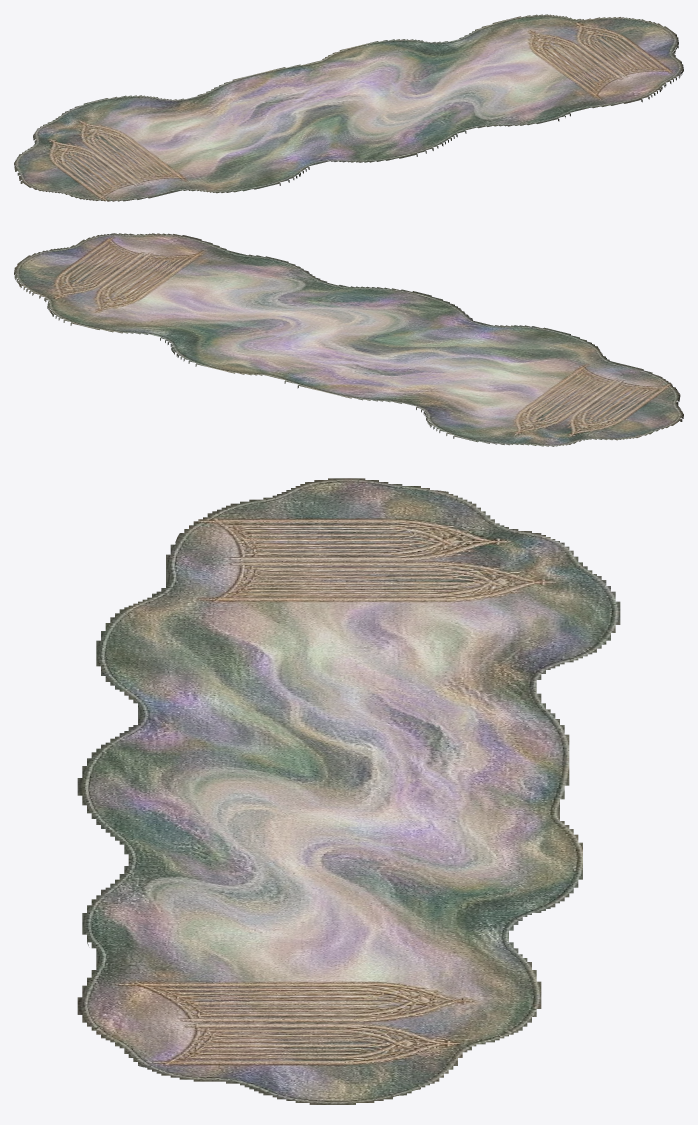
File: ON-11_runner_game.glb
3 renders of one model, top to bottom at view 1: azimuth 30°, elevation 25°; view 2: azimuth 150°, elevation 25°; view 3: azimuth 270°, elevation 25°, orthographic. The views are drawn at different scales.
Parts seen in each view (by area): view 1: ON-11_runner; view 2: ON-11_runner; view 3: ON-11_runner.
Boxes of the visible parts, x1,y1,x2,y2 form: ON-11_runner: [14, 14, 683, 201]; ON-11_runner: [14, 233, 683, 446]; ON-11_runner: [77, 478, 620, 1104].
Size of the model in its own units: 2.8 by 0.012 by 1.02.
1 material, 1 textured.
